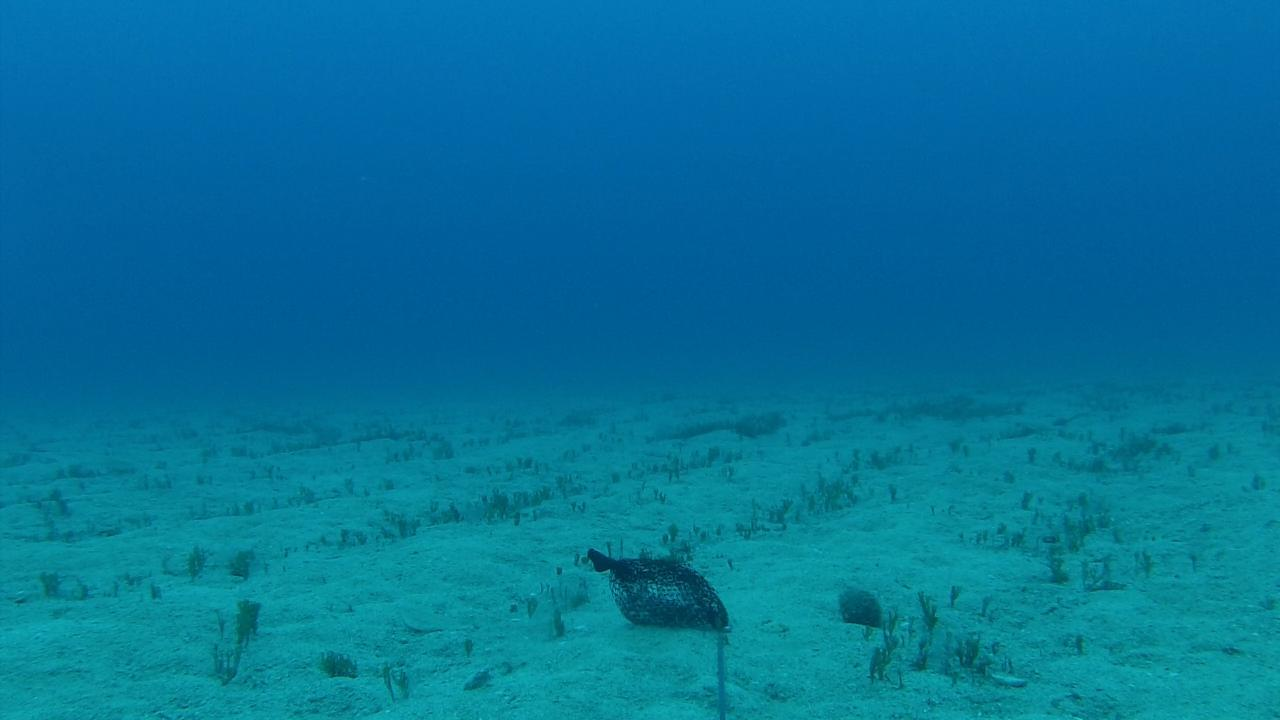bothus: (394, 601, 471, 631)
